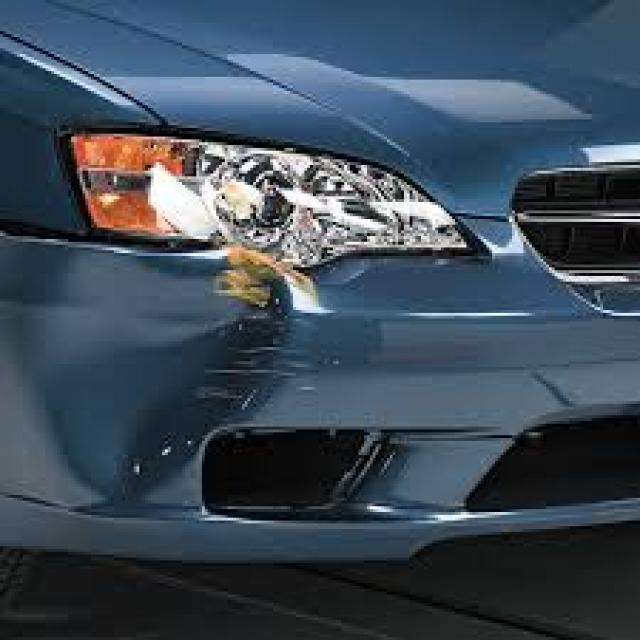minor: (198, 166, 316, 435)
